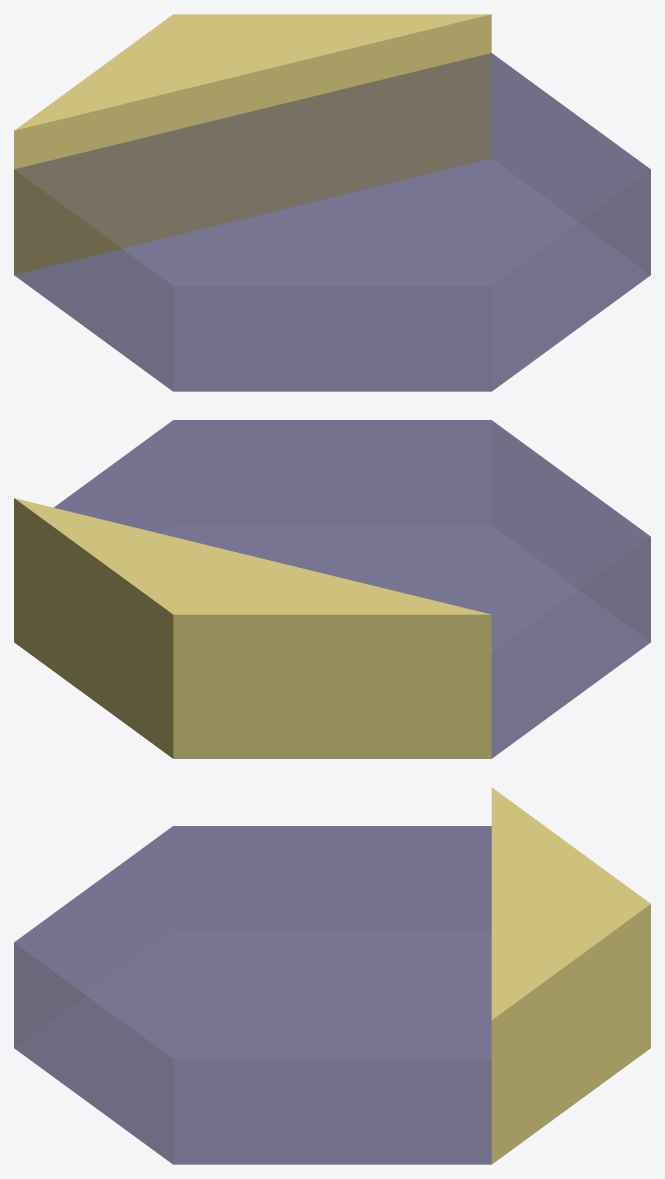
Rendered from HexCell_Beach_Connect_2.glb.
3 views of the same model, one above another, from view 1: azimuth 30°, elevation 25°; view 2: azimuth 150°, elevation 25°; view 3: azimuth 270°, elevation 25° (orthographic).
Parts seen in each view (by area): view 1: HexCell_Beach_Connect_2; view 2: HexCell_Beach_Connect_2; view 3: HexCell_Beach_Connect_2.
Boxes of the visible parts, x1=… form: HexCell_Beach_Connect_2: x1=14, y1=14, x2=650, y2=391; HexCell_Beach_Connect_2: x1=14, y1=420, x2=650, y2=758; HexCell_Beach_Connect_2: x1=14, y1=787, x2=650, y2=1164.
Bounding box in the file's own units: 1.73 × 0.5 × 2.
